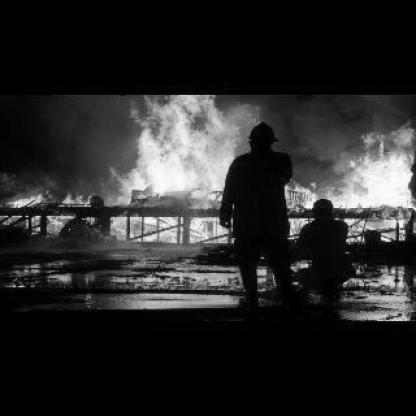fire: (124, 94, 260, 245), (296, 115, 415, 206), (0, 188, 88, 237)
